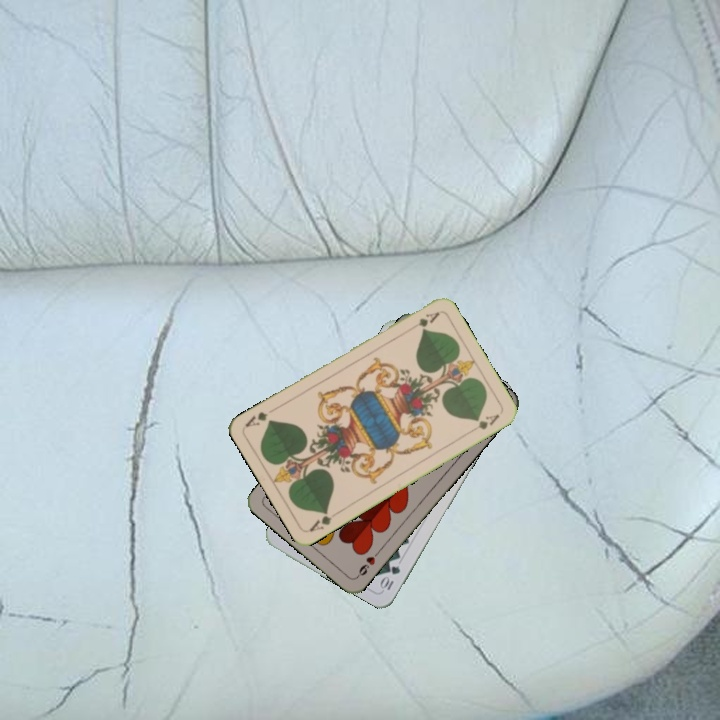G10: (377, 561, 403, 594)
GA: (305, 507, 342, 534), (404, 308, 442, 334)
H9: (353, 546, 383, 580)
